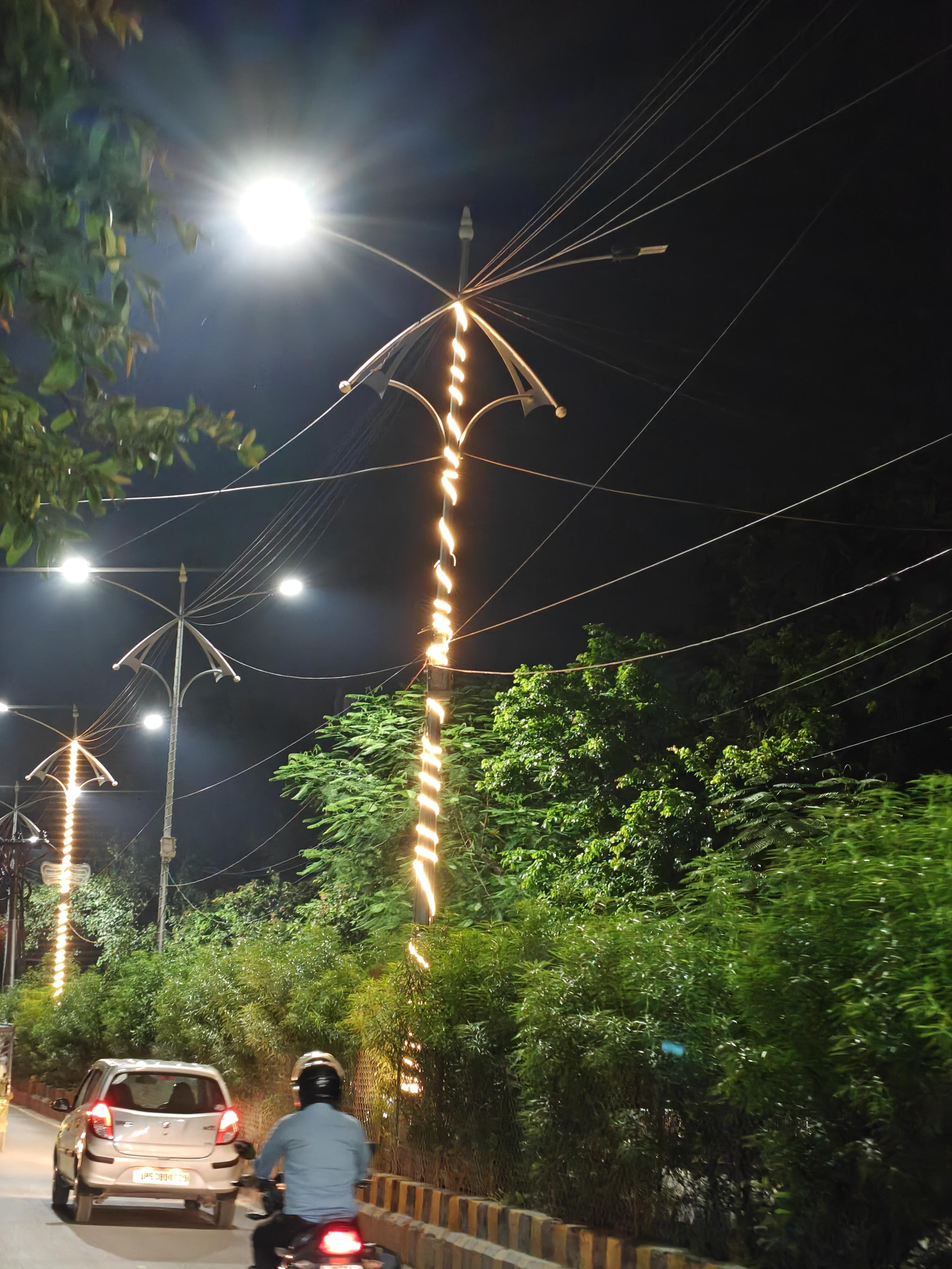streetlight: (606, 238, 669, 268)
